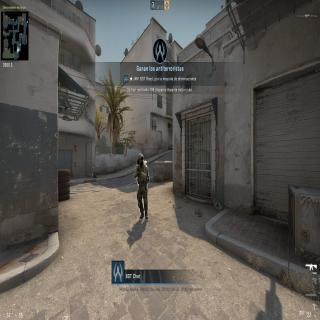CT-Head: (136, 152, 144, 167)
